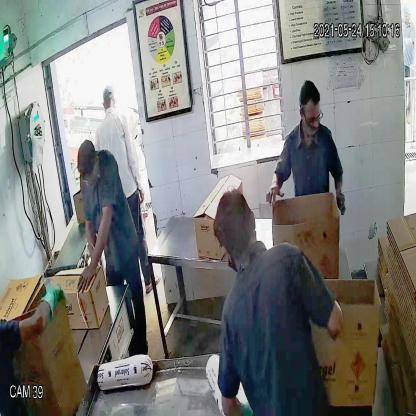goggles: (298, 104, 326, 130)
